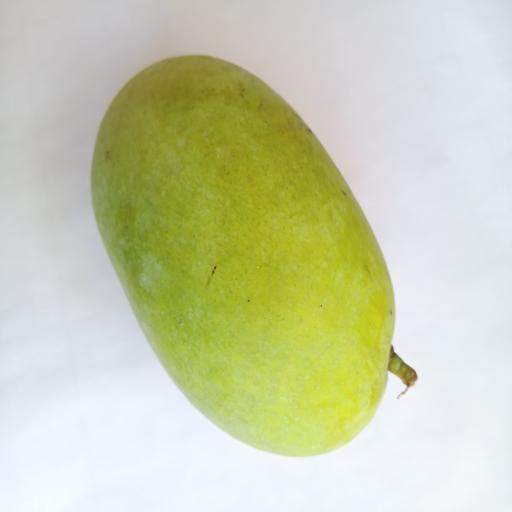mango-unripe: (79, 27, 433, 489)
